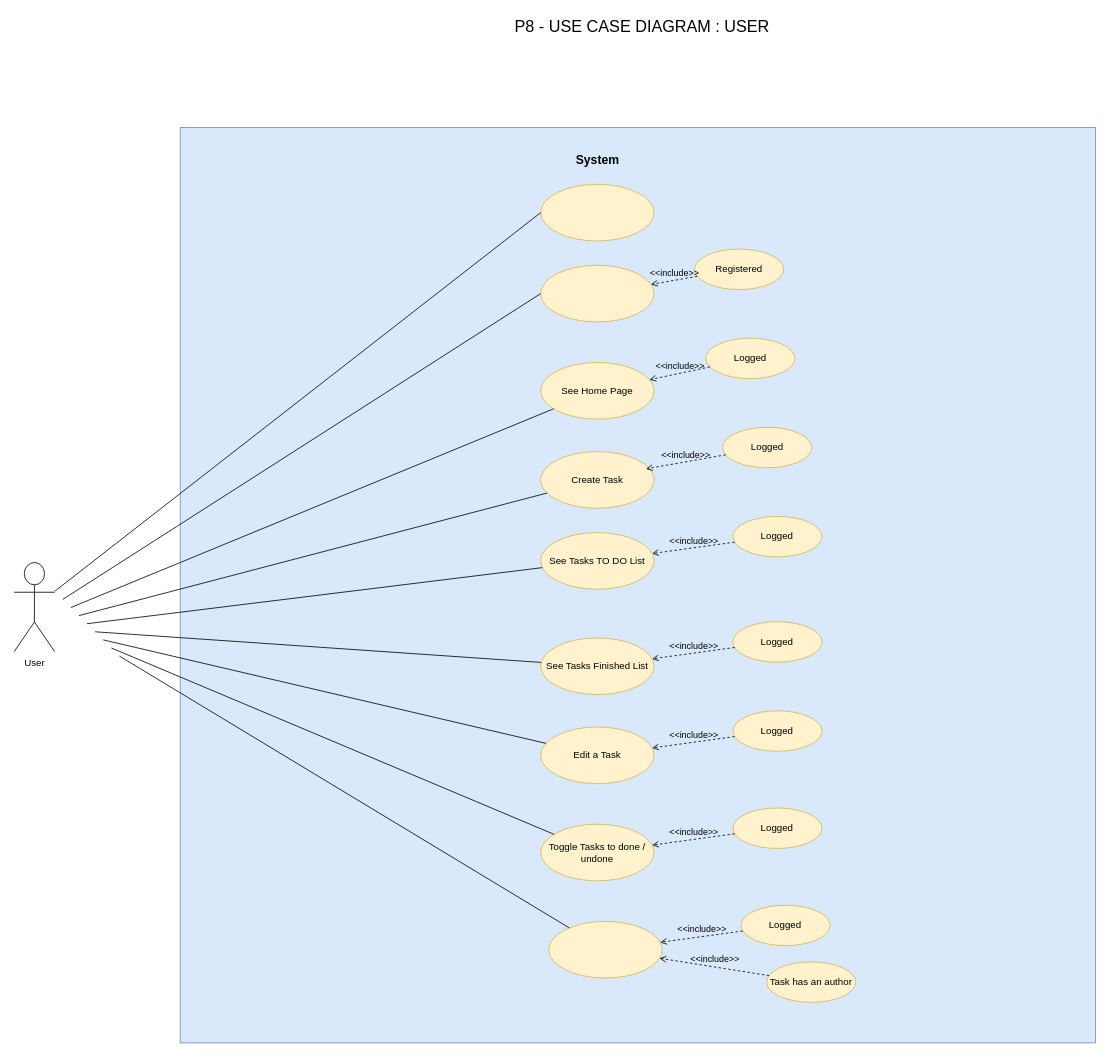
Image size: 1110x1057. Some labels were removed from this diagram. Each missing label, with the box of its shape:
Delete Task: (548, 921, 662, 978)
Login / Logout: (540, 264, 654, 322)
See Login Page: (540, 183, 654, 241)
